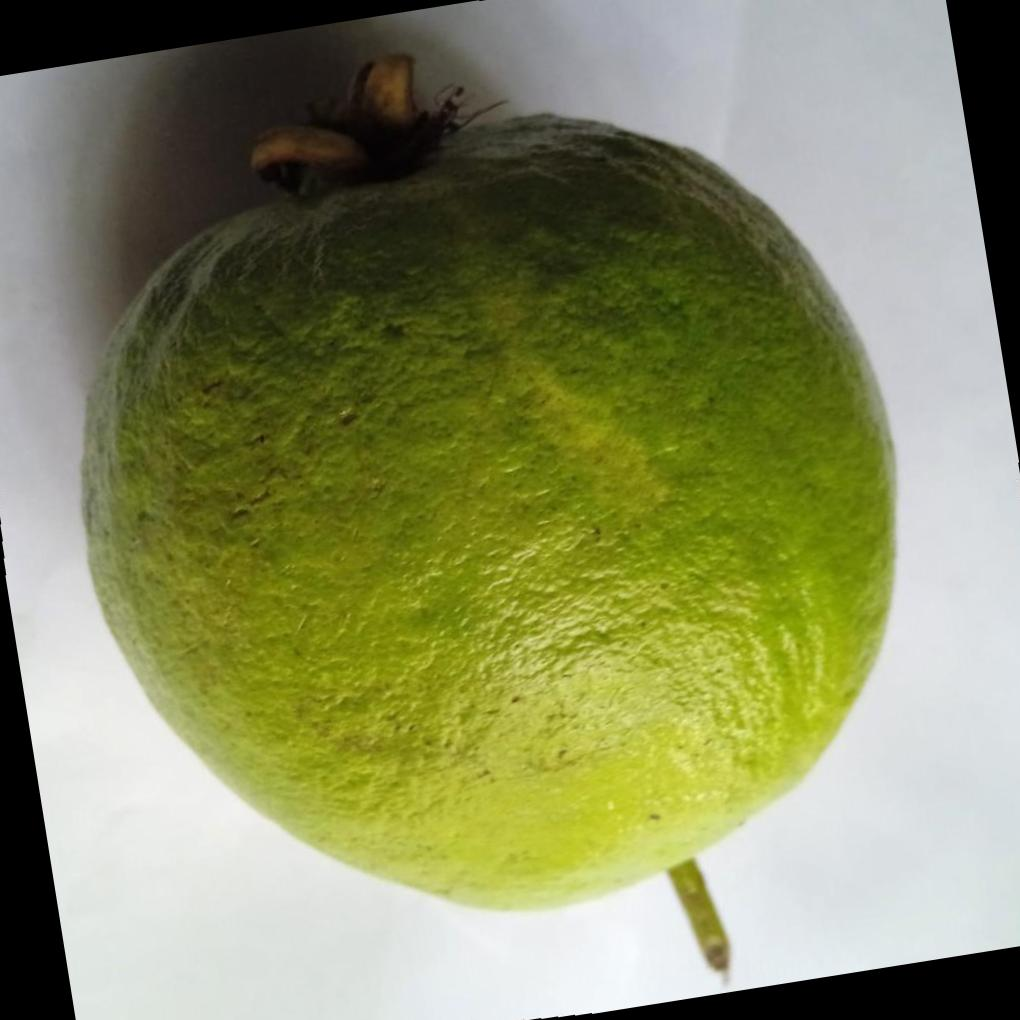FreshGuava: (76, 53, 898, 911)
